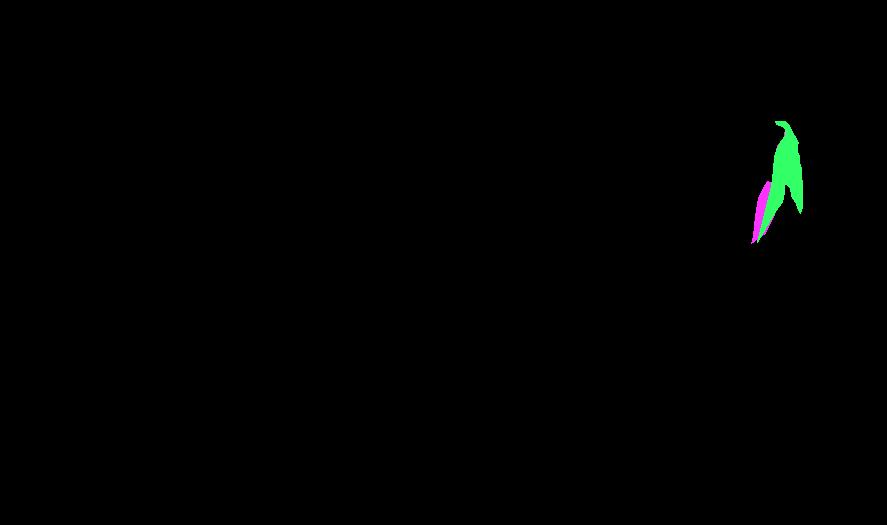Broken part: (757, 121, 798, 242), (783, 148, 802, 213)
Dent: (751, 181, 780, 243), (772, 129, 796, 193)
